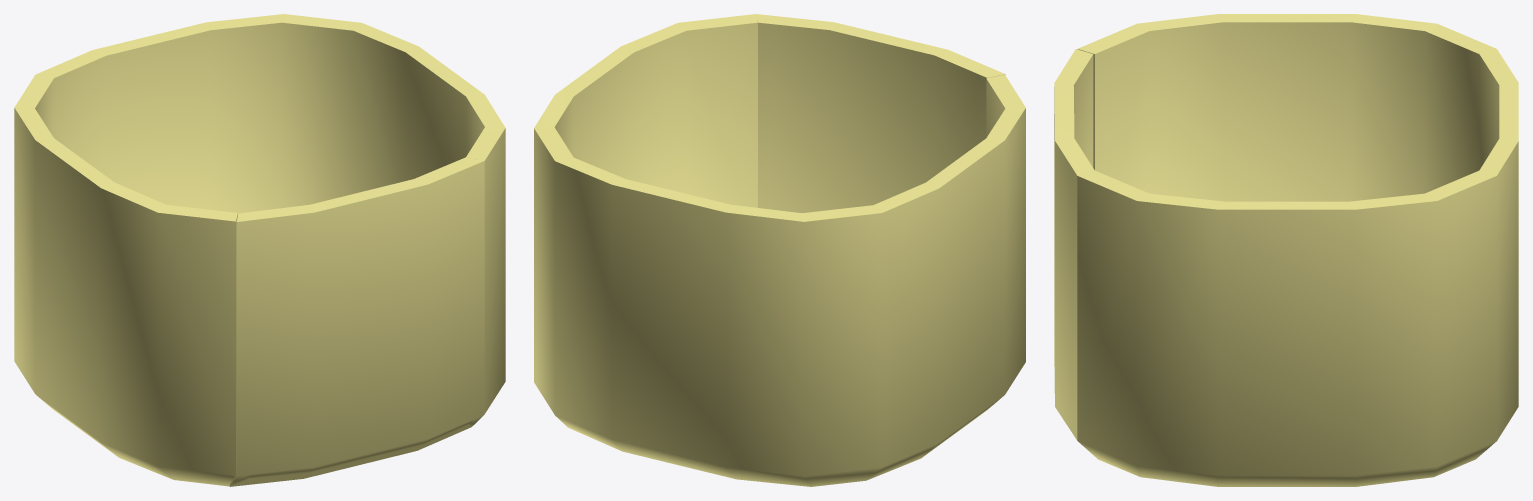
Rendered from korzina.fbx.
3 renders of one model, left to right at view 1: azimuth 30°, elevation 25°; view 2: azimuth 150°, elevation 25°; view 3: azimuth 270°, elevation 25°, orthographic. The views are drawn at different scales.
Parts seen in each view (by area): view 1: Cube.008, Cube.014; view 2: Cube.008, Cube.014; view 3: Cube.008, Cube.014.
Boxes of the visible parts, box(x1,y1,x2,y2) form: Cube.008: box(14, 14, 505, 486); Cube.014: box(229, 157, 484, 486); Cube.008: box(534, 14, 1025, 486); Cube.014: box(756, 14, 1005, 213); Cube.008: box(1077, 14, 1518, 486); Cube.014: box(1054, 49, 1094, 440).
Bounding box in the file's own units: 370 × 270 × 371.
